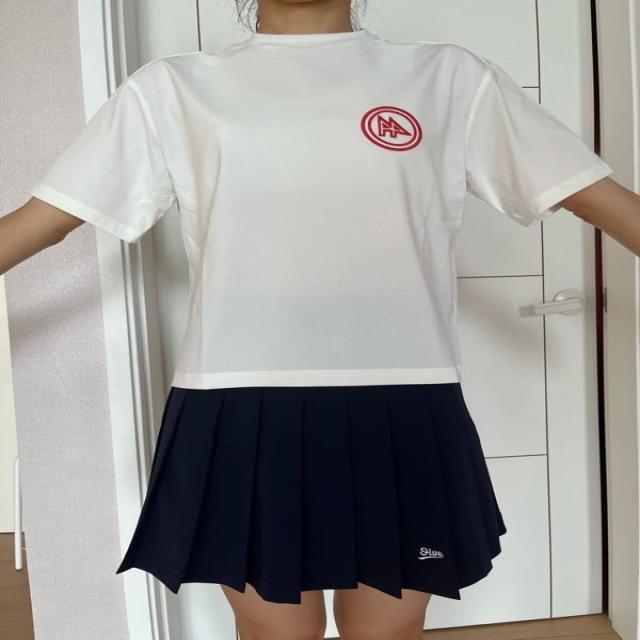shortsleeve: (34, 33, 614, 389)
skirt: (116, 381, 507, 605)
